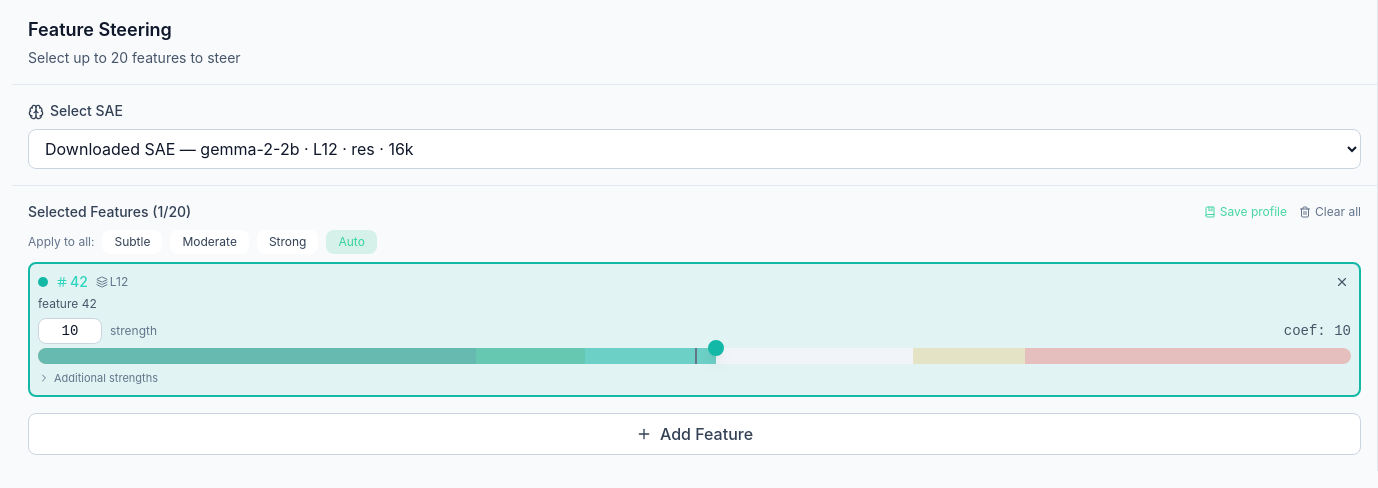
Test: FeatureSelector — View Feature Details › downloaded SAE: the menu no longer says details are unavailable
The width and height of the screenshot is (1378, 488).
Right-click the text "feature 42" at (67, 304), box [38,296,97,312]
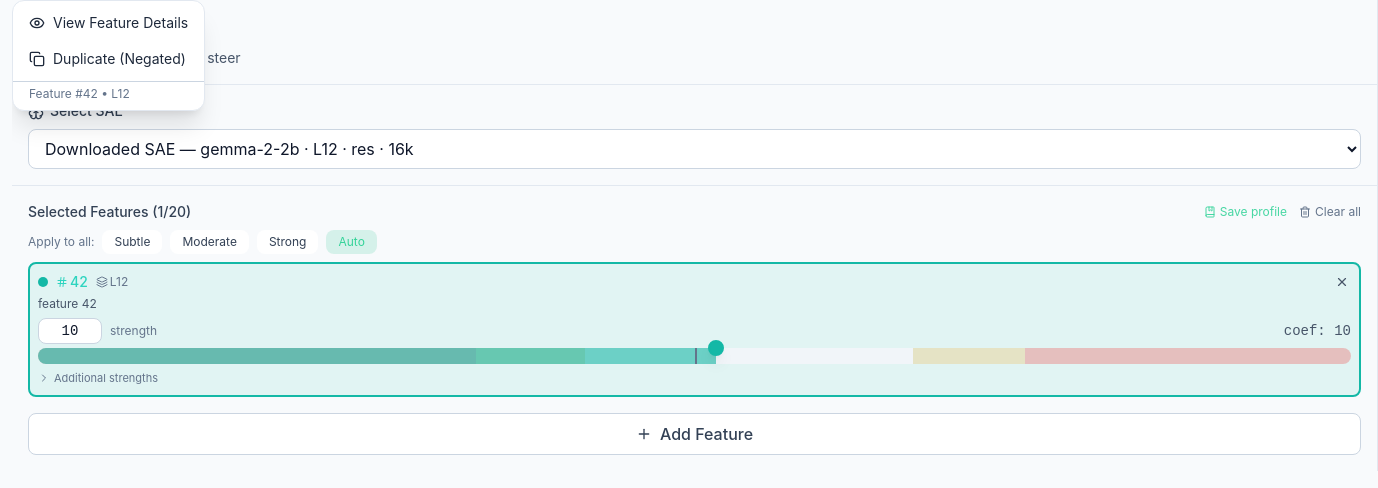
Expected: the button "View Feature Details" is enabled, [13,5,204,41]
